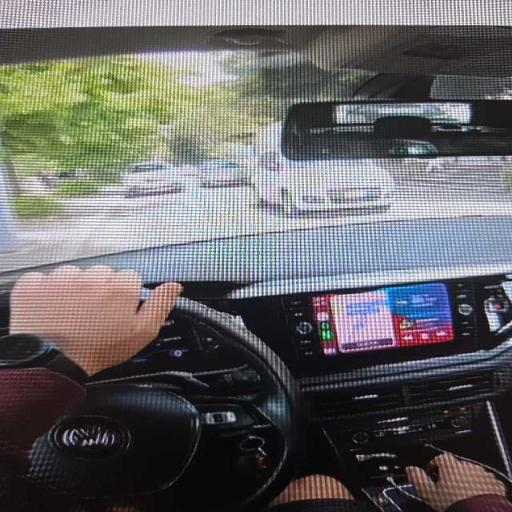car: (0, 0, 511, 511), (250, 124, 395, 214), (122, 161, 185, 197), (198, 159, 246, 187)
lane: (0, 183, 511, 271)
person: (0, 266, 181, 376)
